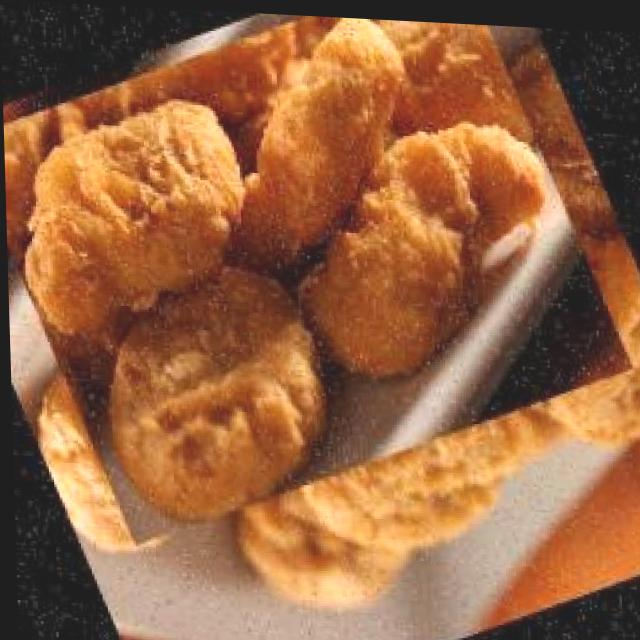chicken_nuggets: (0, 0, 638, 565)
